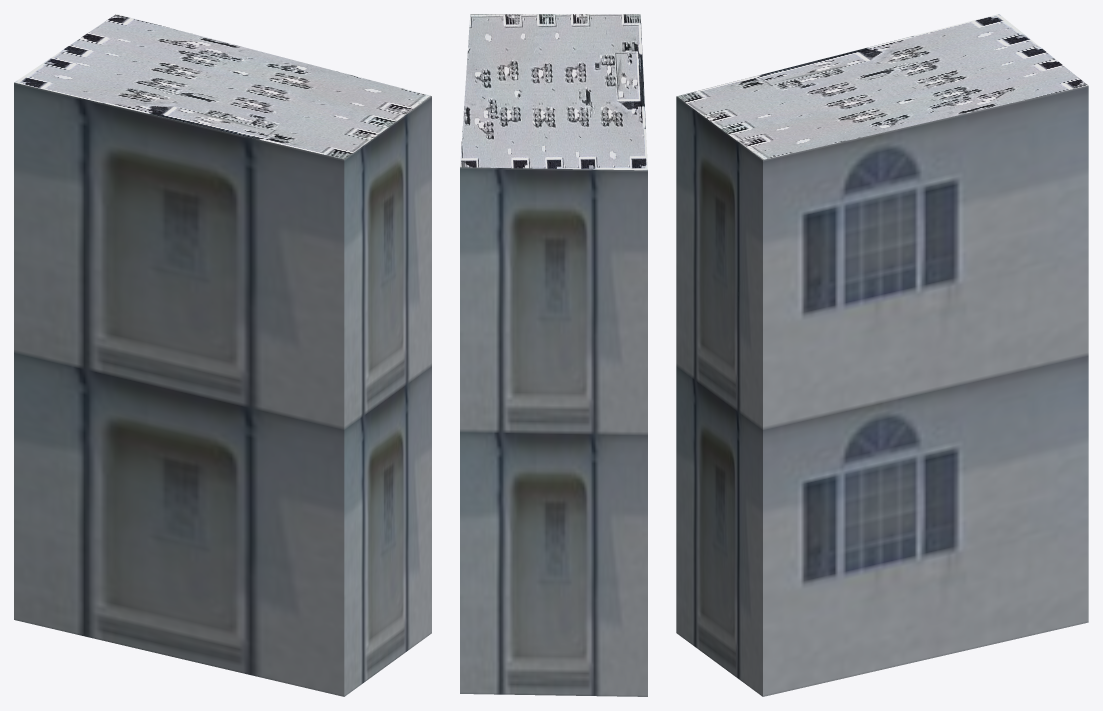
Rendered from ResTex__252.fbx.
3 views of the same model, side by side, from view 1: azimuth 30°, elevation 25°; view 2: azimuth 150°, elevation 25°; view 3: azimuth 270°, elevation 25° (orthographic). The views are drawn at different scales.
Visible parts, largest first — view 1: CityEngineMaterial_17_m, CityEngineMaterial_2_m; view 2: CityEngineMaterial_17_m, CityEngineMaterial_2_m; view 3: CityEngineMaterial_17_m, CityEngineMaterial_2_m.
Part boxes in pixels (x1,y1,x2,y2): CityEngineMaterial_17_m: (14,82,431,696); CityEngineMaterial_2_m: (14,14,431,159); CityEngineMaterial_17_m: (460,167,647,696); CityEngineMaterial_2_m: (460,14,647,170); CityEngineMaterial_17_m: (676,85,1088,696); CityEngineMaterial_2_m: (677,14,1087,159).
Size of the model in its own units: 3.5 by 6 by 4.17.
2 materials, 2 textured.
